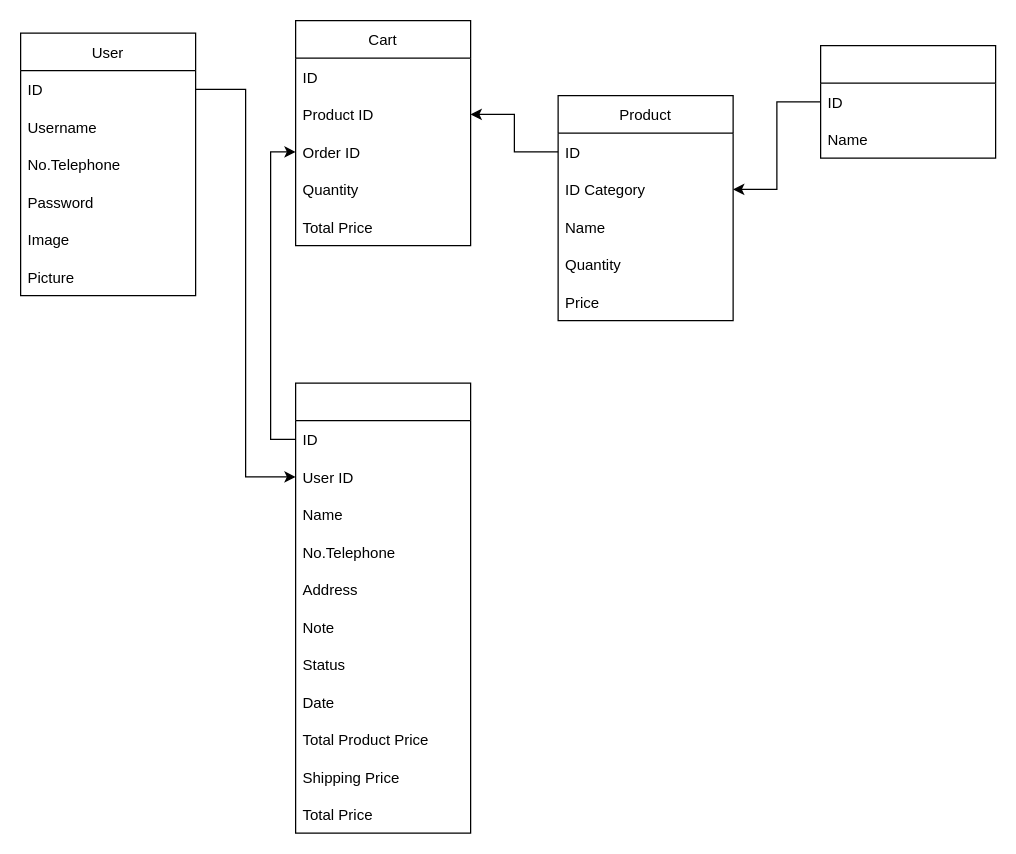
This 1016x854 diagram has some shape labels left out. The shapes that lost their labels are listed below. From the top down, each one's box as (x1, y1, x2, y2) in pixels, then its label:
(819, 44, 996, 158): Category
(294, 382, 471, 833): Order
